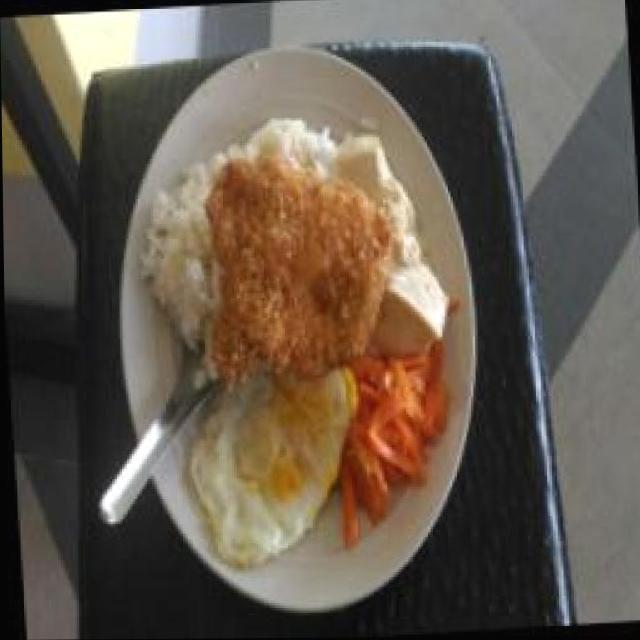carrot_eggs: (332, 340, 457, 541)
fried_chicken: (197, 148, 398, 397)
fried_eggs: (184, 365, 360, 564)
rice: (145, 164, 212, 334)
